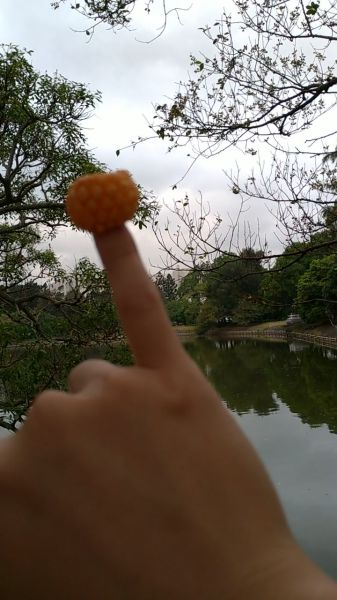eggs: (66, 171, 139, 231)
